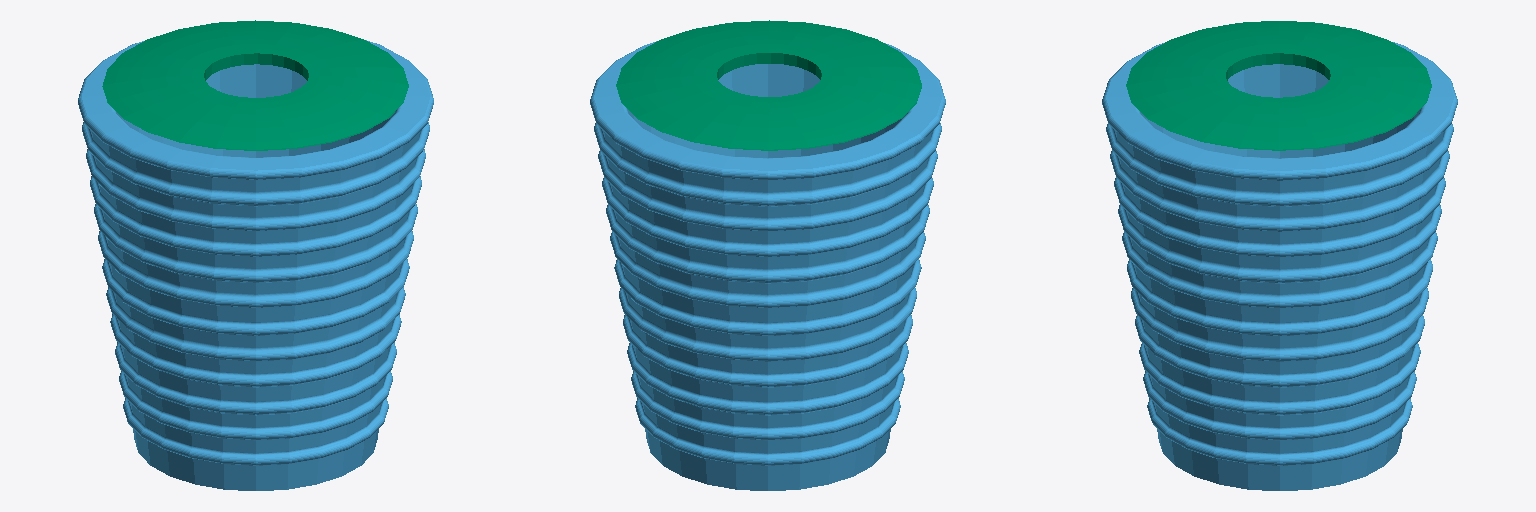
The robot description file, URDF, robot "partnet_8442df5146f188a925ebd1cd0b422e32":
<?xml version="1.0" ?>
<robot name="partnet_8442df5146f188a925ebd1cd0b422e32">
	<link name="base"/>
	<link name="link_0">
		<visual name="container-8">
			<origin xyz="0 0 0"/>
			<geometry>
				<mesh filename="textured_objs/original-2.obj"/>
			</geometry>
		</visual>
		<collision>
			<origin xyz="0 0 0"/>
			<geometry>
				<mesh filename="textured_objs/original-2.obj"/>
			</geometry>
		</collision>
	</link>
	<joint name="joint_0" type="fixed">
		<origin rpy="1.570796326794897 0 -1.570796326794897" xyz="0 0 0"/>
		<child link="link_0"/>
		<parent link="base"/>
	</joint>
	<link name="link_1">
		<visual name="other_leaf-10">
			<origin xyz="0.0008369999999999905 0 -0.0020227394251847407"/>
			<geometry>
				<mesh filename="textured_objs/original-1.obj"/>
			</geometry>
		</visual>
		<collision>
			<origin xyz="0.0008369999999999905 0 -0.0020227394251847407"/>
			<geometry>
				<mesh filename="textured_objs/original-1.obj"/>
			</geometry>
		</collision>
	</link>
	<joint name="joint_1" type="prismatic">
		<origin xyz="-0.0008369999999999905 0 0.0020227394251847407"/>
		<axis xyz="0 1 0"/>
		<child link="link_1"/>
		<parent link="link_0"/>
		<limit lower="0.040000000000000036" upper="0.1080000000000001"/>
	</joint>
</robot>

--- Render facts (derived) ---
Views: 3 orthographic renders of the robot side by side, from view 1: azimuth 30°, elevation 25°; view 2: azimuth 150°, elevation 25°; view 3: azimuth 270°, elevation 25°.
Robot: partnet_8442df5146f188a925ebd1cd0b422e32 — 3 links, 2 joints (1 prismatic, 1 fixed); root link base; default pose: all joints at 0 but 1 set to mid-range because 0 is outside their limits (joint_1 = 0.074).
Links seen in each view (by area): view 1: link_0, link_1; view 2: link_0, link_1; view 3: link_0, link_1.
Link boxes in pixels (x1=…): link_0: x1=78, y1=40, x2=433, y2=490; link_1: x1=102, y1=20, x2=408, y2=150; link_0: x1=590, y1=41, x2=945, y2=490; link_1: x1=616, y1=20, x2=921, y2=150; link_0: x1=1102, y1=42, x2=1457, y2=490; link_1: x1=1126, y1=21, x2=1431, y2=150.
Size in the robot's own frame: 1.43 by 1.43 by 1.61 metres.
2 mesh visuals loaded from 2 distinct referenced files (2 OBJ).
